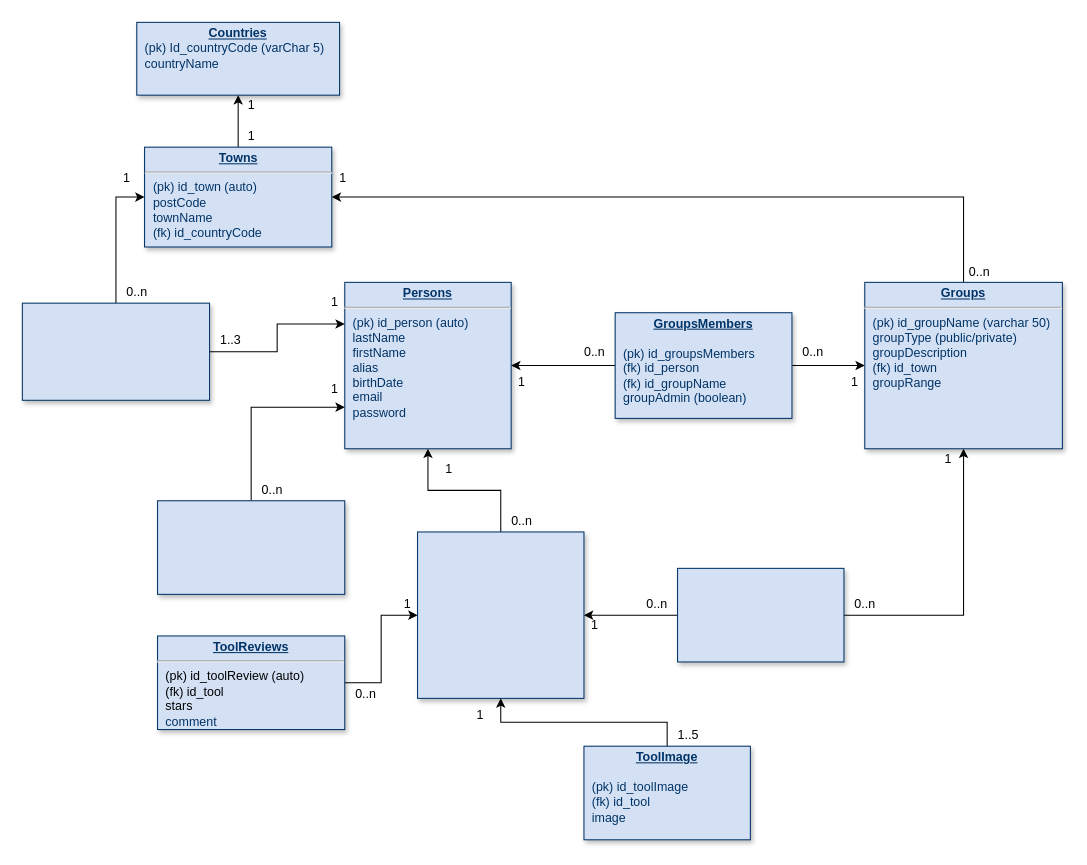
This 1087x865 diagram has some shape labels left out. The shapes that lost their labels are listed below. From the top down, each one's centre as x and y in pixels, then its label:
At [116,353]: "PersonsTowns (pk) id_personsRegions (auto) (fk) id_person (fk) id_town".
At [251,549]: "PersonReviews (pk) id_personReview (auto) (fk) id_person stars comment".
At [501,616]: "Tools (pk) id_tool (auto) (fk) id_person toolName toodDescription toolPrice".
At [761,616]: "ToolsGroups (pk) id_toolGroups (fk) id_tool (fk) id_groupName".
